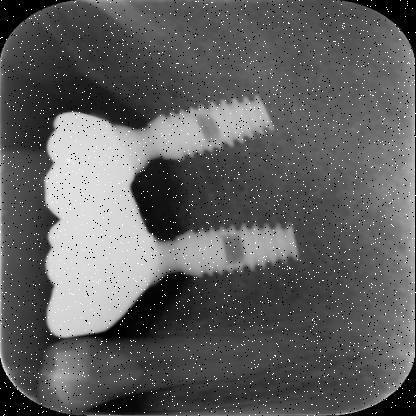Bicon: (146, 93, 284, 169), (172, 221, 308, 282)
